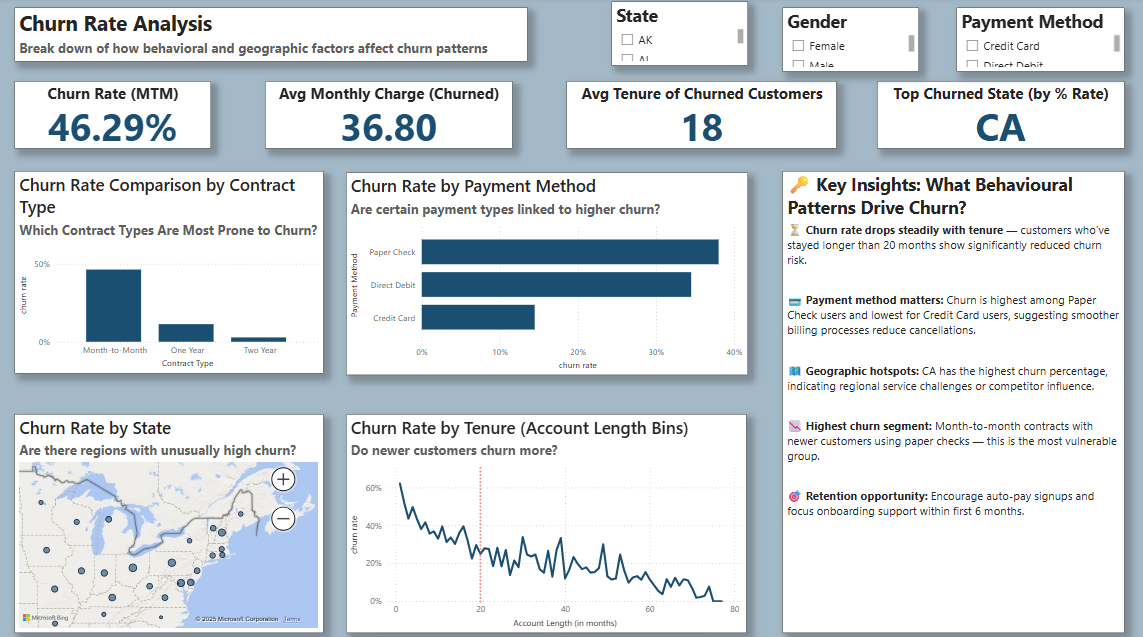

This screenshot's page, from the dashboard's own definition file:
{"tool":"powerbi","page":{"name":"Churn Rate Analysis","canvas":[1640,960],"ordinal":1},"visuals":[{"type":"columnChart","title":"Churn Rate Comparison by Contract Type","fields":{"Category":["Databel - Data.Contract Type"],"Y":["Databel - Data.churn rate"]},"box":[27.7,247.3,439.1,287.8],"z":0},{"type":"map","title":"Churn Rate by State","fields":{"Category":["Databel - Data.State"],"Size":["Databel - Data.churn rate"]},"box":[27.7,592.6,439.1,311.2],"z":1000},{"type":"lineChart","title":"Churn Rate by Tenure (Account Length Bins)","fields":{"Y":["Databel - Data.churn rate"],"Category":["Databel - Data.Account Length (in months)"]},"box":[498.8,592.6,569.2,311.2],"z":2000},{"type":"barChart","title":"Churn Rate by Payment Method","fields":{"Y":["Databel - Data.churn rate"],"Category":["Databel - Data.Payment Method"]},"box":[498.8,249.4,571.3,287.8],"z":3000},{"type":"textbox","title":"Churn Rate Analysis","box":[27.7,14.9,729.1,76.7],"z":4000},{"type":"card","title":"Churn Rate (MTM)","fields":{"Values":["Databel - Data.Churn Rate (Month-to-Month)"]},"box":[27.7,119.4,279.3,95.9],"z":5000},{"type":"card","title":"Avg Monthly Charge (Churned)","fields":{"Values":["Databel - Data.Avg Monthly Charge (Churned)"]},"box":[383.7,119.4,351.7,95.9],"z":6000},{"type":"card","title":"Avg Tenure of Churned Customers","fields":{"Values":["Databel - Data.Avg Tenure (Churned)"]},"box":[812.2,119.4,383.7,95.9],"z":7000},{"type":"card","title":"Top Churned State (by % Rate)","fields":{"Values":["Databel - Data.Top Churned State"]},"box":[1253.5,119.4,351.7,95.9],"z":8000},{"type":"slicer","title":"State","fields":{"Values":["Databel - Data.State"]},"box":[876.1,6.4,194,91.7],"z":9000},{"type":"slicer","title":"Gender","fields":{"Values":["Databel - Data.Gender"]},"box":[1119.2,14.9,194,91.7],"z":10000},{"type":"slicer","title":"Payment Method","fields":{"Values":["Databel - Data.Payment Method"]},"box":[1366.4,14.9,238.8,91.7],"z":11000},{"type":"textbox","title":"🔑 Key Insights: What Behavioural Patterns Drive Churn?","box":[1119.2,247.3,486,656.6],"z":12000},{"type":"textbox","title":"Power BI Dashboard | Analysing Customer Churn ","box":[1069.9,914.5,569.5,45.5],"z":13000},{"type":"shape","title":"Previous Page","box":[537.2,914.5,238.8,44.8],"z":13002},{"type":"shape","title":"Next Page","box":[801.5,914.5,202.5,44.8],"z":13003}]}

Visuals, with their boxes on the page's 1640x960 design canvas (x1, y1, x2, y2). These are canvas units, not pixel positions in the 1143x637 screenshot, which may show the page scaled, cropped or inside an application window:
"Churn Rate Comparison by Contract Type" columnChart: BBox(28, 247, 467, 535)
"Churn Rate by State" map: BBox(28, 593, 467, 904)
"Churn Rate by Tenure (Account Length Bins)" lineChart: BBox(499, 593, 1068, 904)
"Churn Rate by Payment Method" barChart: BBox(499, 249, 1070, 537)
"Churn Rate Analysis" textbox: BBox(28, 15, 757, 92)
"Churn Rate (MTM)" card: BBox(28, 119, 307, 215)
"Avg Monthly Charge (Churned)" card: BBox(384, 119, 735, 215)
"Avg Tenure of Churned Customers" card: BBox(812, 119, 1196, 215)
"Top Churned State (by % Rate)" card: BBox(1254, 119, 1605, 215)
"State" slicer: BBox(876, 6, 1070, 98)
"Gender" slicer: BBox(1119, 15, 1313, 107)
"Payment Method" slicer: BBox(1366, 15, 1605, 107)
"🔑 Key Insights: What Behavioural Patterns Drive Churn?" textbox: BBox(1119, 247, 1605, 904)
"Power BI Dashboard | Analysing Customer Churn " textbox: BBox(1070, 914, 1639, 960)
"Previous Page" shape: BBox(537, 914, 776, 959)
"Next Page" shape: BBox(802, 914, 1004, 959)
